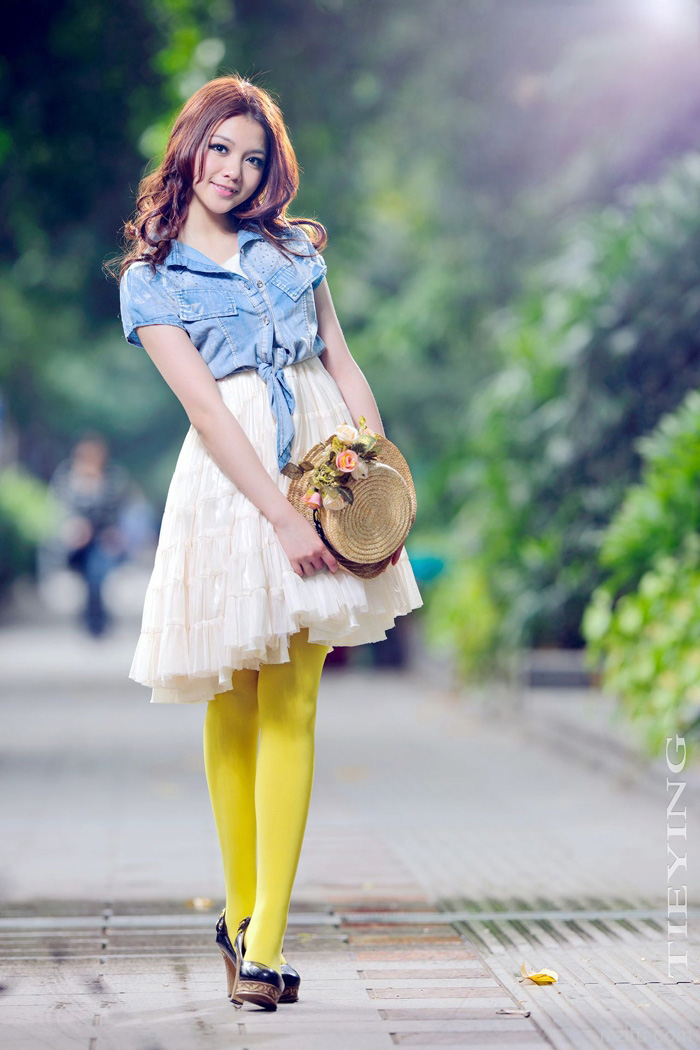women: (101, 72, 428, 1014)
